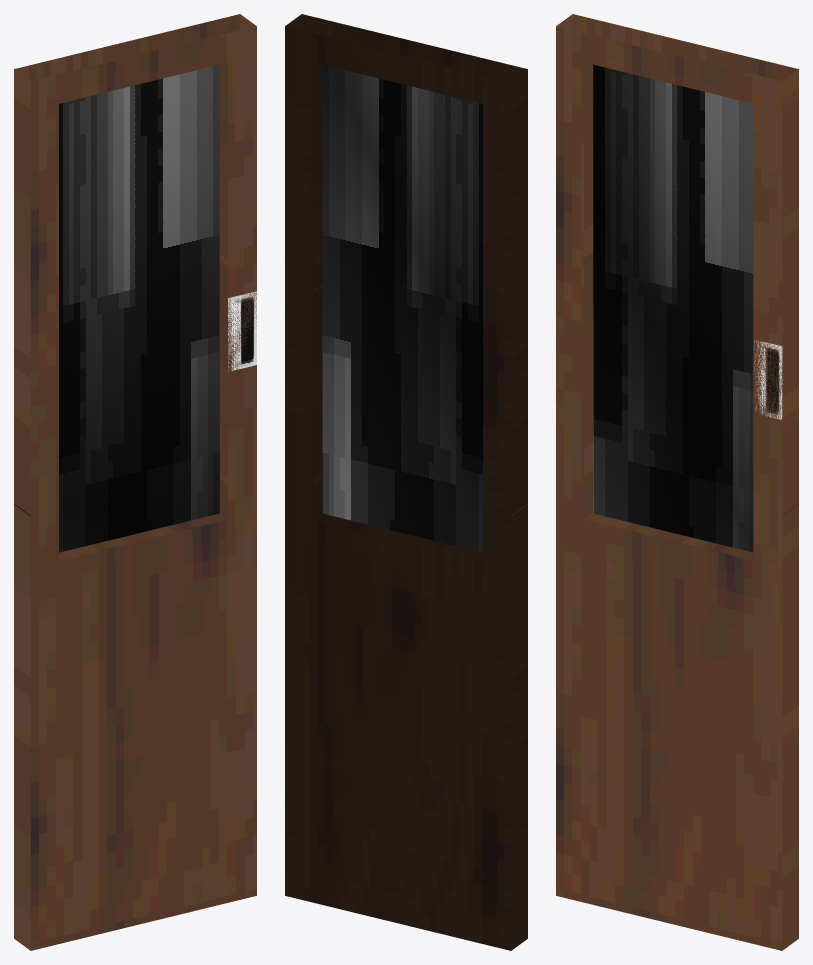
File: Ptrain_door2Z.obj
3 renders of one model, left to right at view 1: azimuth 30°, elevation 25°; view 2: azimuth 150°, elevation 25°; view 3: azimuth 330°, elevation 25°, orthographic.
Size of the model in its own units: 234 by 860 by 30.
3 materials, 3 textured.
